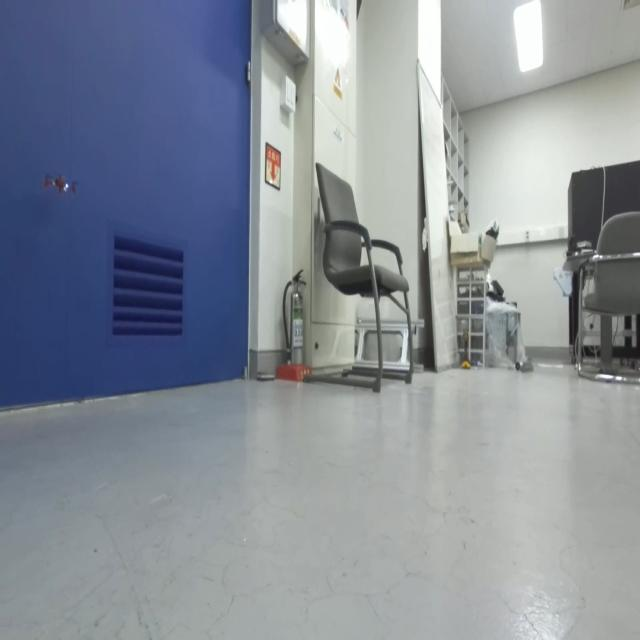crazyflie: (41, 162, 79, 205)
